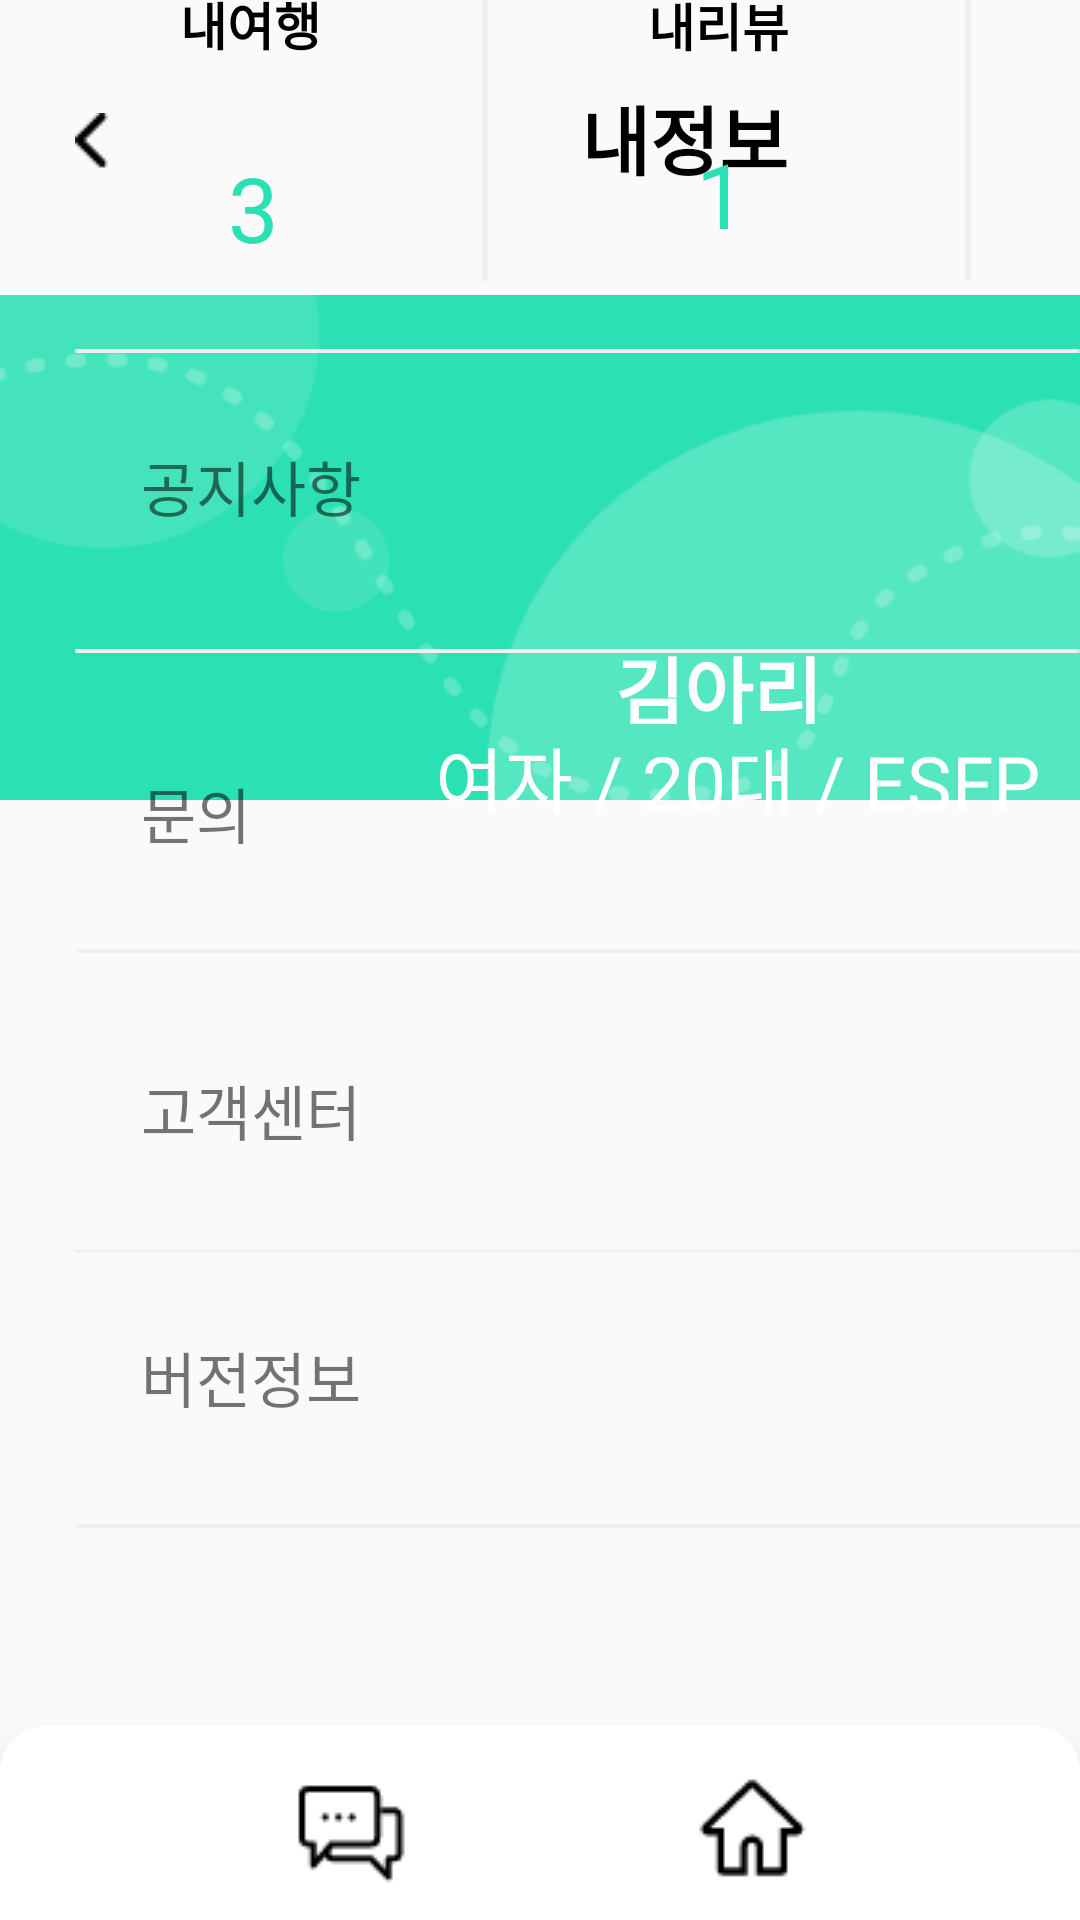

Icons on this 1080 x 1920 Android screen, each with the point to tap as (x,y):
chatting off: (351,1833)
home off: (752,1828)
signup back: (91,140)
